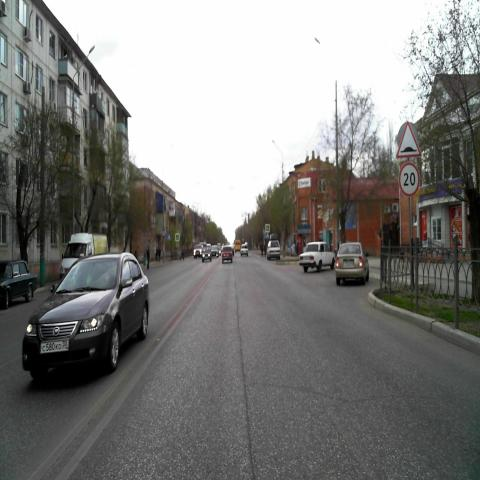1_17: (396, 121, 421, 158)
